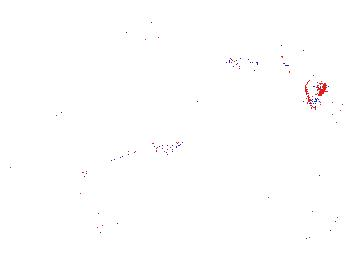X-ray fish: (95, 5, 165, 47)
glassfish: (77, 136, 185, 186)
redtail glassfish: (239, 87, 303, 115), (224, 48, 291, 73), (287, 45, 333, 72)
